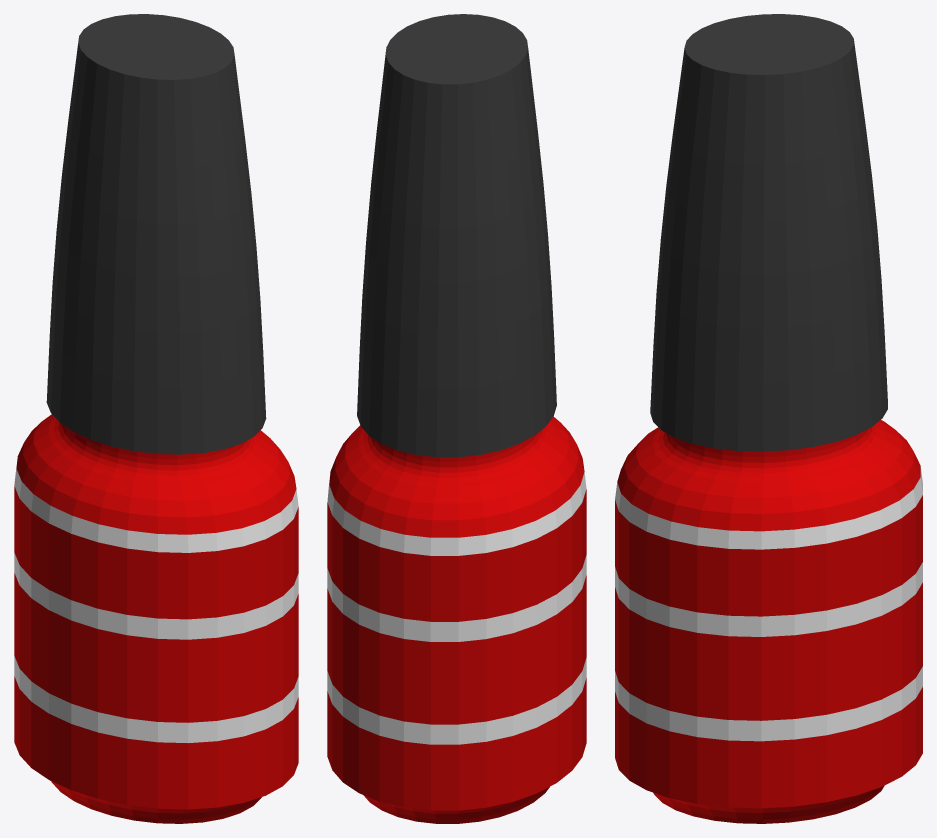
File: de212f5e-55fb-44af-96d3-3a0eb35b8dff.glb
3 renders of one model, left to right at view 1: azimuth 30°, elevation 25°; view 2: azimuth 150°, elevation 25°; view 3: azimuth 270°, elevation 25°, orthographic.
Visible parts, largest first — view 1: Cylinder001; view 2: Cylinder001; view 3: Cylinder001.
Boxes of the visible parts, left/top/right/bottom form: Cylinder001: left=14, top=14, right=298, bottom=823; Cylinder001: left=327, top=14, right=586, bottom=823; Cylinder001: left=615, top=14, right=922, bottom=823.
Size of the model in its own units: 196811 by 608384 by 230443.
